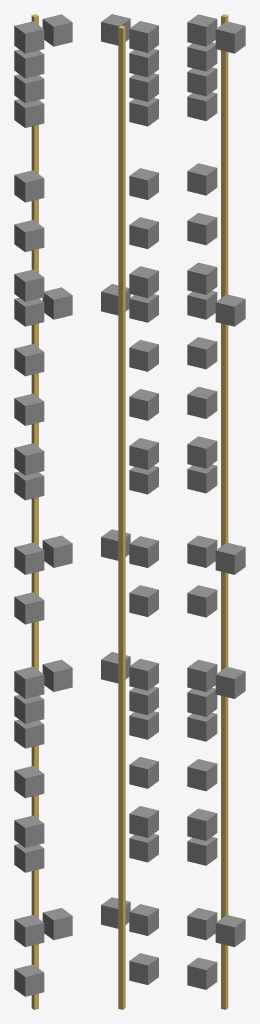
Rendered from OBSERVER.gltf.
3 views of the same model, side by side, from view 1: azimuth 30°, elevation 25°; view 2: azimuth 150°, elevation 25°; view 3: azimuth 330°, elevation 25° (orthographic).
Visible parts, largest first — view 1: plane0.stroke1, R.low.dot7 (×2), E.low.dot3 (×2), R.low.dot2 (×2), E.low.dot1 (×2), R.low.dot5 (×2), E.low.dot7 (×2), O.low.dot1, B.low.dot2, S.low.dot1, S.low.dot7, B.low.dot7 (+10 smaller); view 2: plane0.stroke1, E.low.dot3 (×2), R.low.dot2 (×2), R.low.dot7 (×2), E.low.dot1 (×2), E.low.dot7 (×2), R.low.dot5 (×2), S.low.dot1, V.low.dot2, O.low.dot1, S.low.dot7, B.low.dot2 (+10 smaller); view 3: plane0.stroke1, E.low.dot3 (×2), R.low.dot5 (×2), E.low.dot1 (×2), R.low.dot7 (×2), R.low.dot2 (×2), E.low.dot7 (×2), O.low.dot4, S.low.dot1, S.low.dot5, B.low.dot2, B.low.dot7 (+10 smaller).
Boxes of the visible parts, x1=… form: plane0.stroke1: x1=31, y1=14, x2=38, y2=1009; R.low.dot7 (×2): x1=14, y1=592, x2=44, y2=996; E.low.dot3 (×2): x1=14, y1=443, x2=44, y2=847; R.low.dot2 (×2): x1=14, y1=542, x2=44, y2=947; E.low.dot1 (×2): x1=14, y1=393, x2=44, y2=798; R.low.dot5 (×2): x1=42, y1=535, x2=72, y2=940; E.low.dot7 (×2): x1=14, y1=471, x2=44, y2=872; O.low.dot1: x1=14, y1=21, x2=44, y2=53; B.low.dot2: x1=14, y1=170, x2=44, y2=202; S.low.dot1: x1=14, y1=269, x2=44, y2=301; S.low.dot7: x1=14, y1=344, x2=44, y2=376; B.low.dot7: x1=14, y1=220, x2=44, y2=252; plane0.stroke1: x1=118, y1=25, x2=125, y2=1009; E.low.dot3 (×2): x1=129, y1=438, x2=158, y2=837; R.low.dot2 (×2): x1=129, y1=536, x2=158, y2=935; R.low.dot7 (×2): x1=129, y1=585, x2=158, y2=984; E.low.dot1 (×2): x1=129, y1=389, x2=158, y2=788; E.low.dot7 (×2): x1=129, y1=466, x2=158, y2=862; R.low.dot5 (×2): x1=101, y1=529, x2=130, y2=928; S.low.dot1: x1=129, y1=266, x2=158, y2=298; V.low.dot2: x1=129, y1=658, x2=158, y2=690; O.low.dot1: x1=129, y1=21, x2=158, y2=52; S.low.dot7: x1=129, y1=340, x2=158, y2=371; B.low.dot2: x1=129, y1=168, x2=158, y2=199; plane0.stroke1: x1=221, y1=14, x2=228, y2=1009; E.low.dot3 (×2): x1=187, y1=436, x2=217, y2=840; R.low.dot5 (×2): x1=215, y1=542, x2=245, y2=947; E.low.dot1 (×2): x1=187, y1=386, x2=217, y2=791; R.low.dot7 (×2): x1=187, y1=585, x2=217, y2=989; R.low.dot2 (×2): x1=187, y1=535, x2=217, y2=940; E.low.dot7 (×2): x1=187, y1=464, x2=217, y2=865; O.low.dot4: x1=215, y1=21, x2=245, y2=53; S.low.dot1: x1=187, y1=262, x2=217, y2=294; S.low.dot5: x1=215, y1=294, x2=245, y2=326; B.low.dot2: x1=187, y1=163, x2=217, y2=195; B.low.dot7: x1=187, y1=213, x2=217, y2=245.
Size of the model in its own units: 2 by 40 by 1.1.
